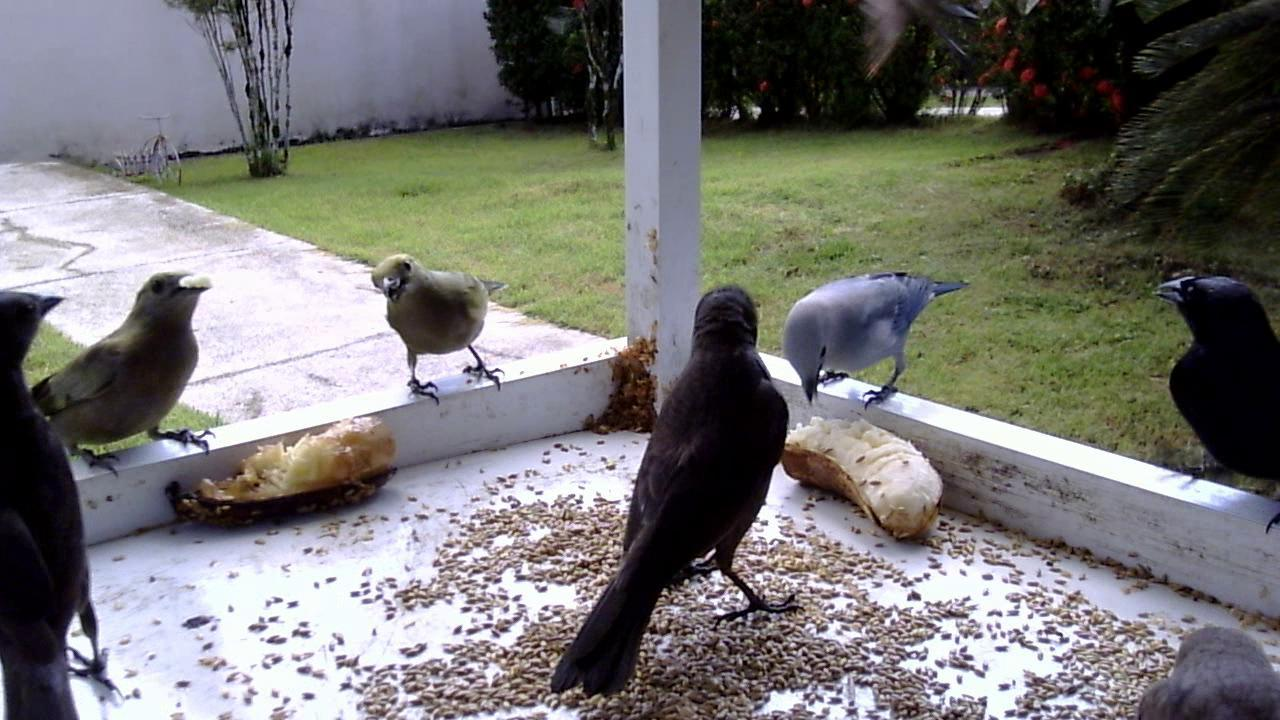chupim: (548, 280, 818, 696), (1, 286, 127, 705), (1136, 264, 1280, 552), (1122, 616, 1278, 716)
sanhaco_da_amazonia: (780, 270, 974, 414)
sanhaco_do_coqueiro: (23, 261, 238, 483), (365, 247, 517, 414)
